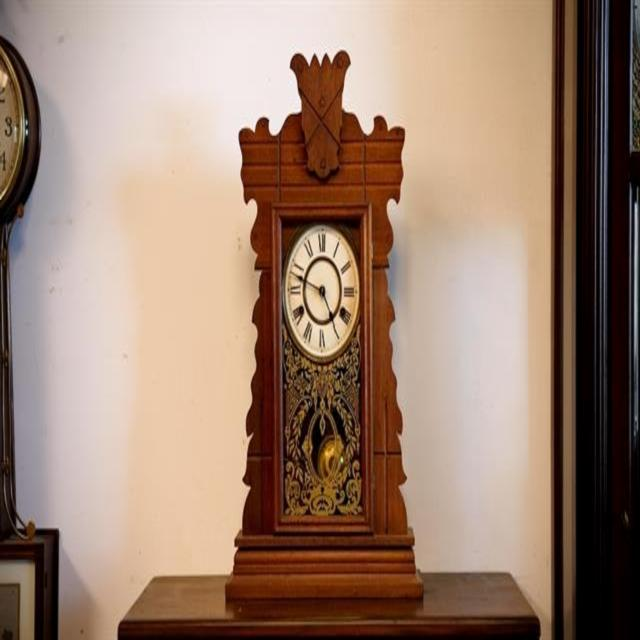clock: (184, 26, 460, 600)
